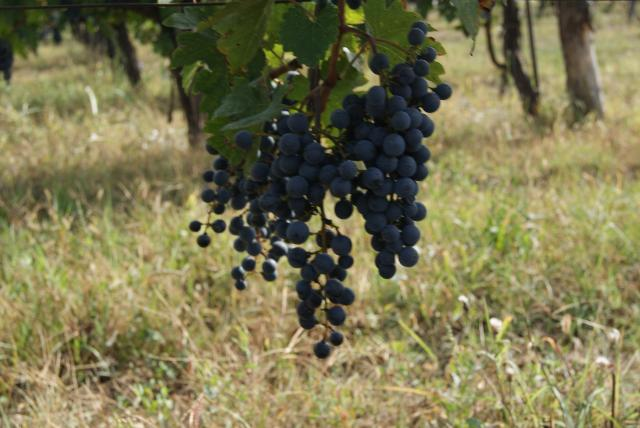grapes: (238, 112, 358, 359), (342, 59, 451, 278)
